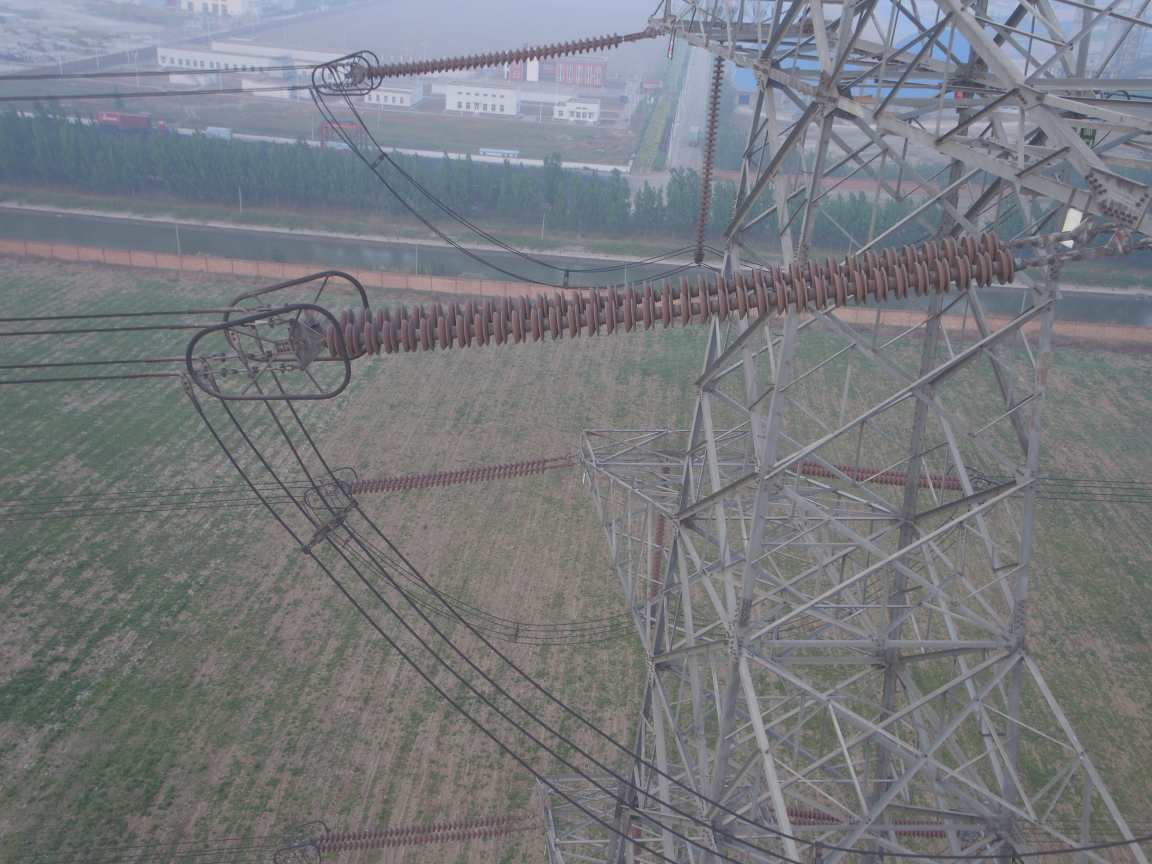insulator: (310, 226, 1061, 362), (357, 30, 644, 81), (337, 453, 564, 497), (313, 810, 524, 853)
